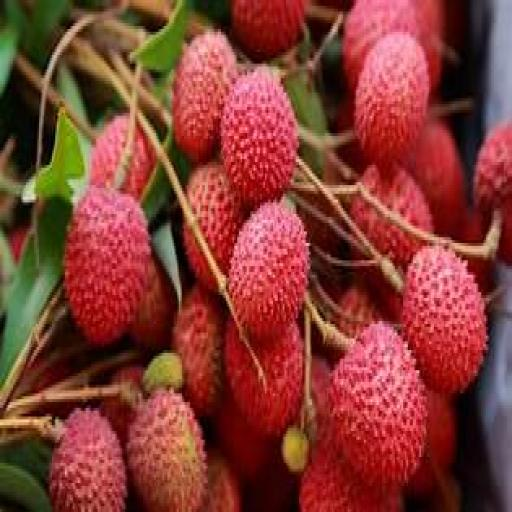lychee: (330, 322, 427, 488), (64, 189, 151, 344), (402, 246, 487, 393), (228, 203, 308, 341), (222, 67, 299, 208), (355, 32, 429, 173), (127, 391, 206, 511), (225, 322, 303, 436), (173, 32, 237, 161), (49, 411, 126, 511), (343, 0, 419, 92), (173, 287, 224, 416), (187, 162, 245, 274), (408, 119, 464, 234), (300, 440, 383, 511), (90, 113, 156, 199), (213, 388, 274, 480), (408, 391, 456, 494), (361, 165, 432, 231), (129, 255, 177, 350), (231, 0, 305, 60), (473, 125, 511, 211), (413, 0, 445, 89), (337, 284, 381, 338), (204, 452, 240, 511), (144, 351, 183, 393), (103, 397, 134, 445), (9, 226, 29, 263)
